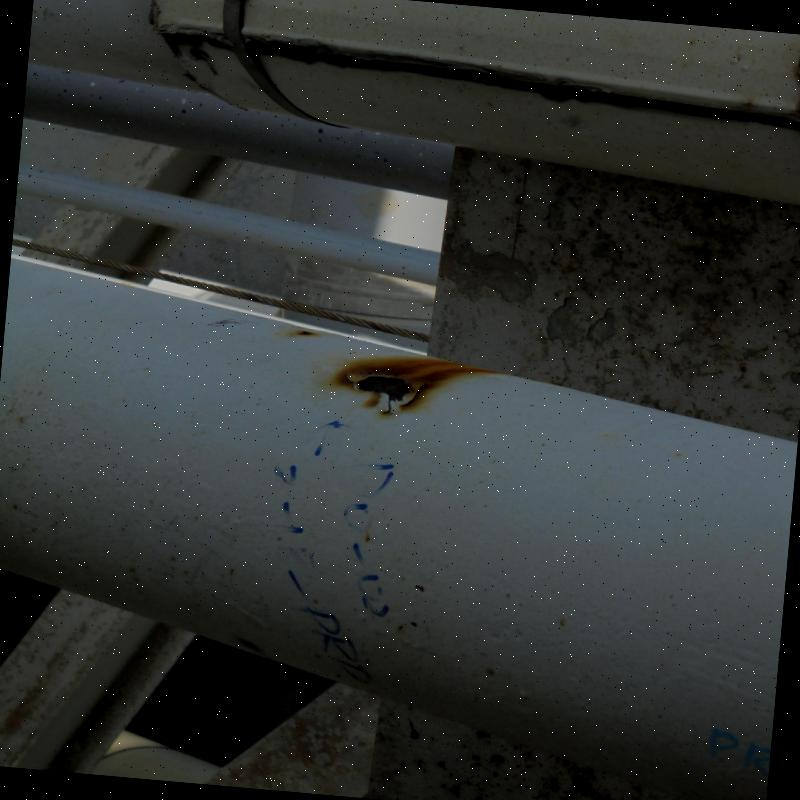Fracture: (368, 374, 413, 392)
corrosion: (325, 340, 464, 420)
